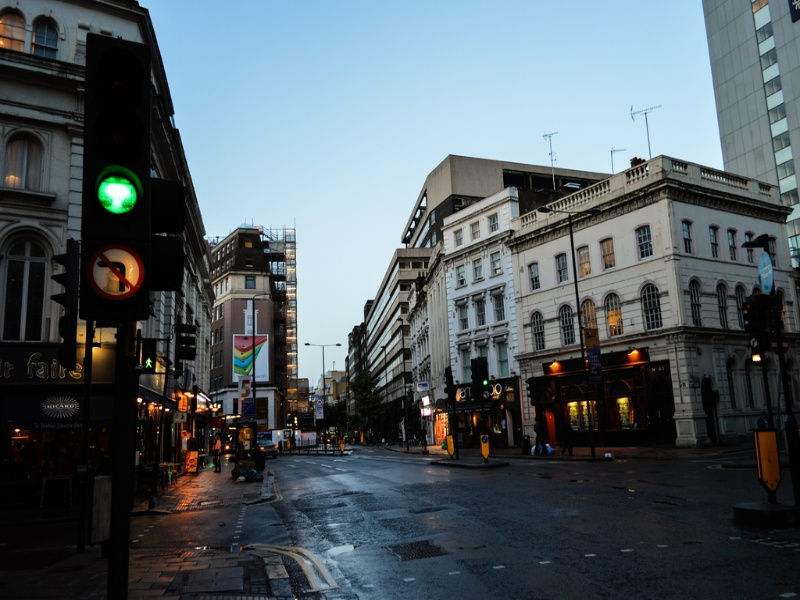green_light: (86, 160, 151, 225)
no_left_turn: (85, 239, 148, 303)
